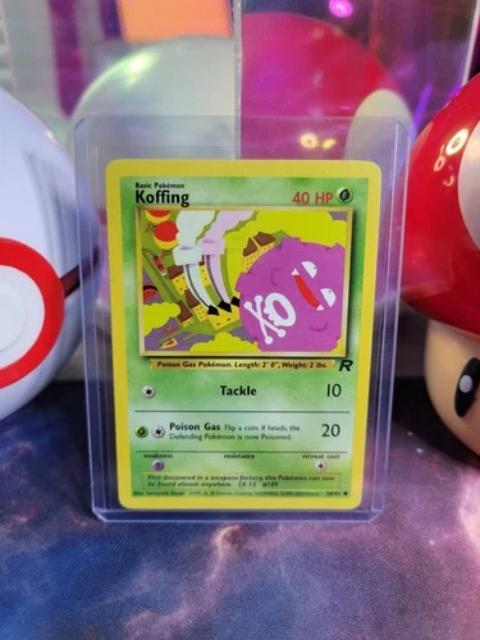Card: (102, 154, 384, 515)
Name: (131, 187, 193, 207)
